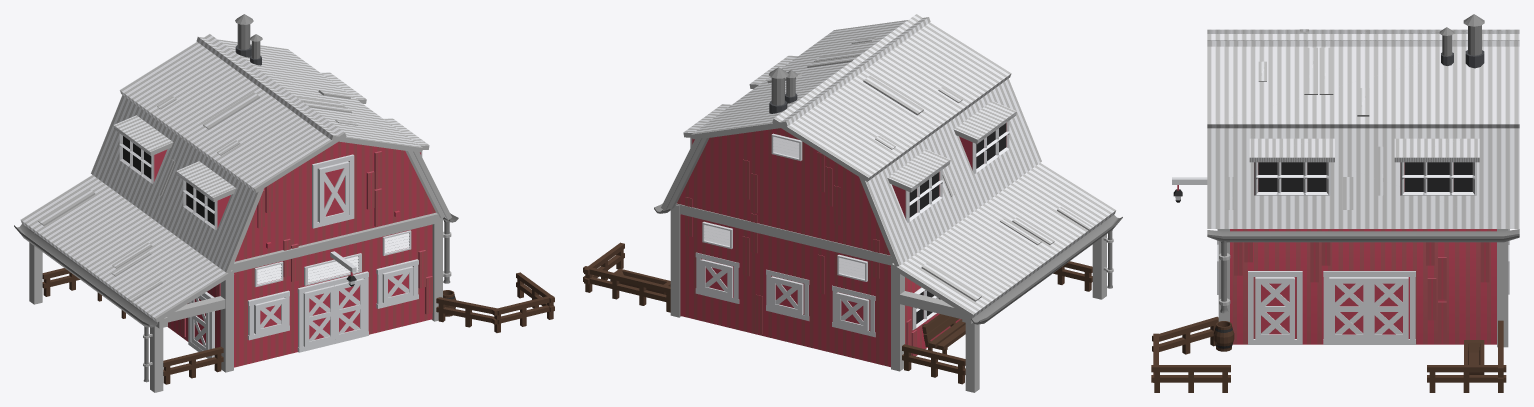
3 renders of one model, left to right at view 1: azimuth 30°, elevation 25°; view 2: azimuth 150°, elevation 25°; view 3: azimuth 270°, elevation 25°, orthographic. The views are drawn at different scales.
Parts seen in each view (by area): view 1: Barn1; view 2: Barn1; view 3: Barn1.
Boxes of the visible parts, x1,y1,x2,y2 form: Barn1: (14,14,554,392); Barn1: (583,14,1122,392); Barn1: (1151,14,1519,392).
Bounding box in the file's own units: 8993 × 5583 × 6482.
1 material, 1 textured.
